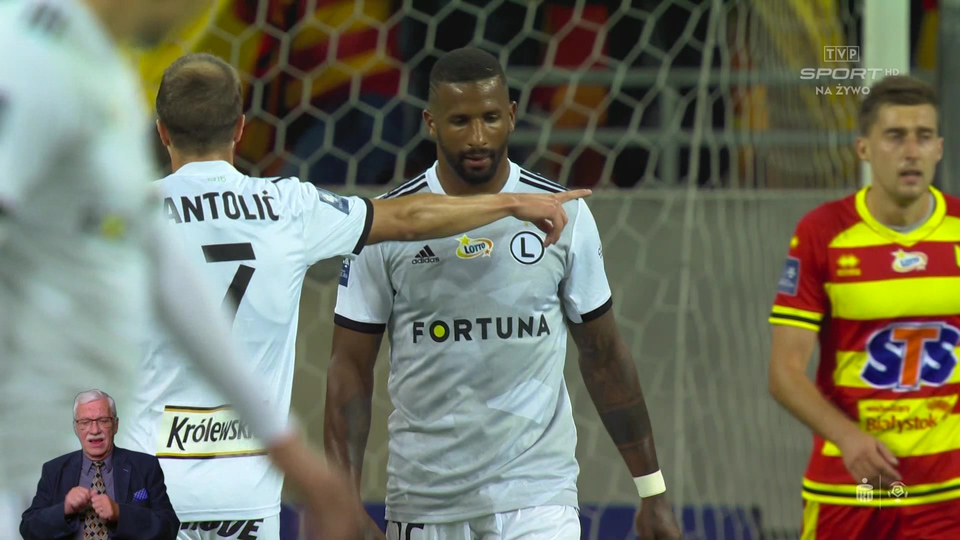Adidas: (411, 243, 442, 265)
